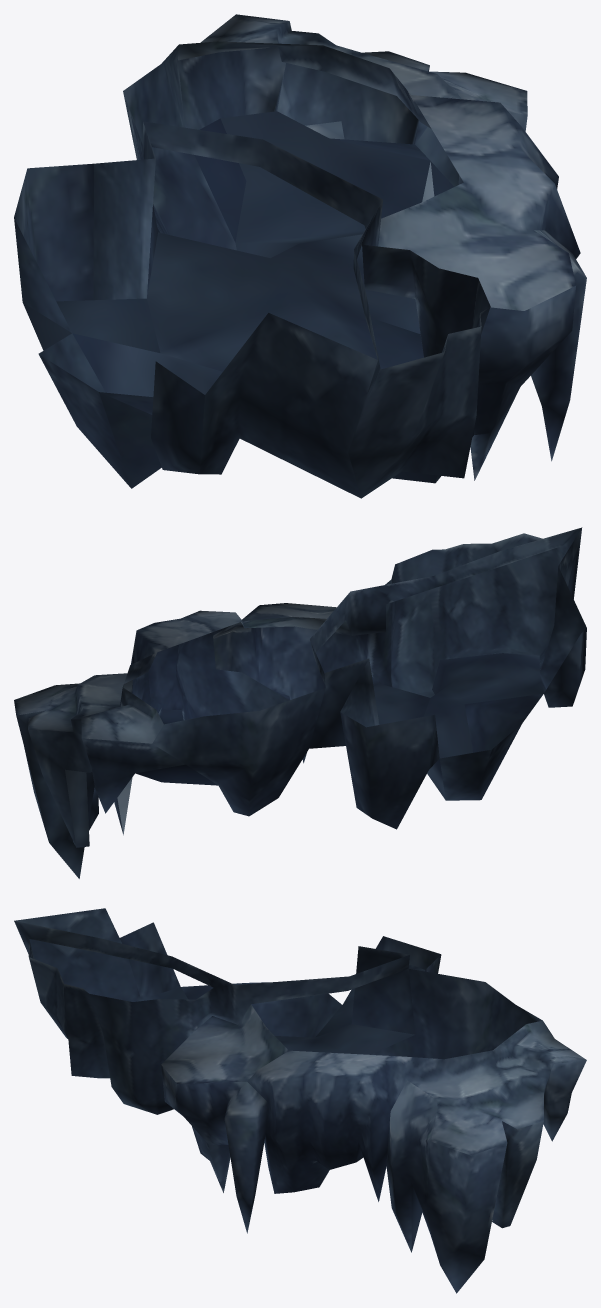
Rendered from Area_04_26.fbx.
The picture shows the model from 3 angles, top to bottom: view 1: azimuth 30°, elevation 25°; view 2: azimuth 150°, elevation 25°; view 3: azimuth 270°, elevation 25°; orthographic projection. The views are drawn at different scales.
Parts seen in each view (by area): view 1: Area_04_26; view 2: Area_04_26; view 3: Area_04_26.
Boxes of the visible parts, bbox=[...] form: Area_04_26: bbox=[14, 14, 586, 498]; Area_04_26: bbox=[14, 527, 586, 878]; Area_04_26: bbox=[14, 908, 586, 1293].
Bounding box in the file's own units: 2976 × 1784 × 3779.
